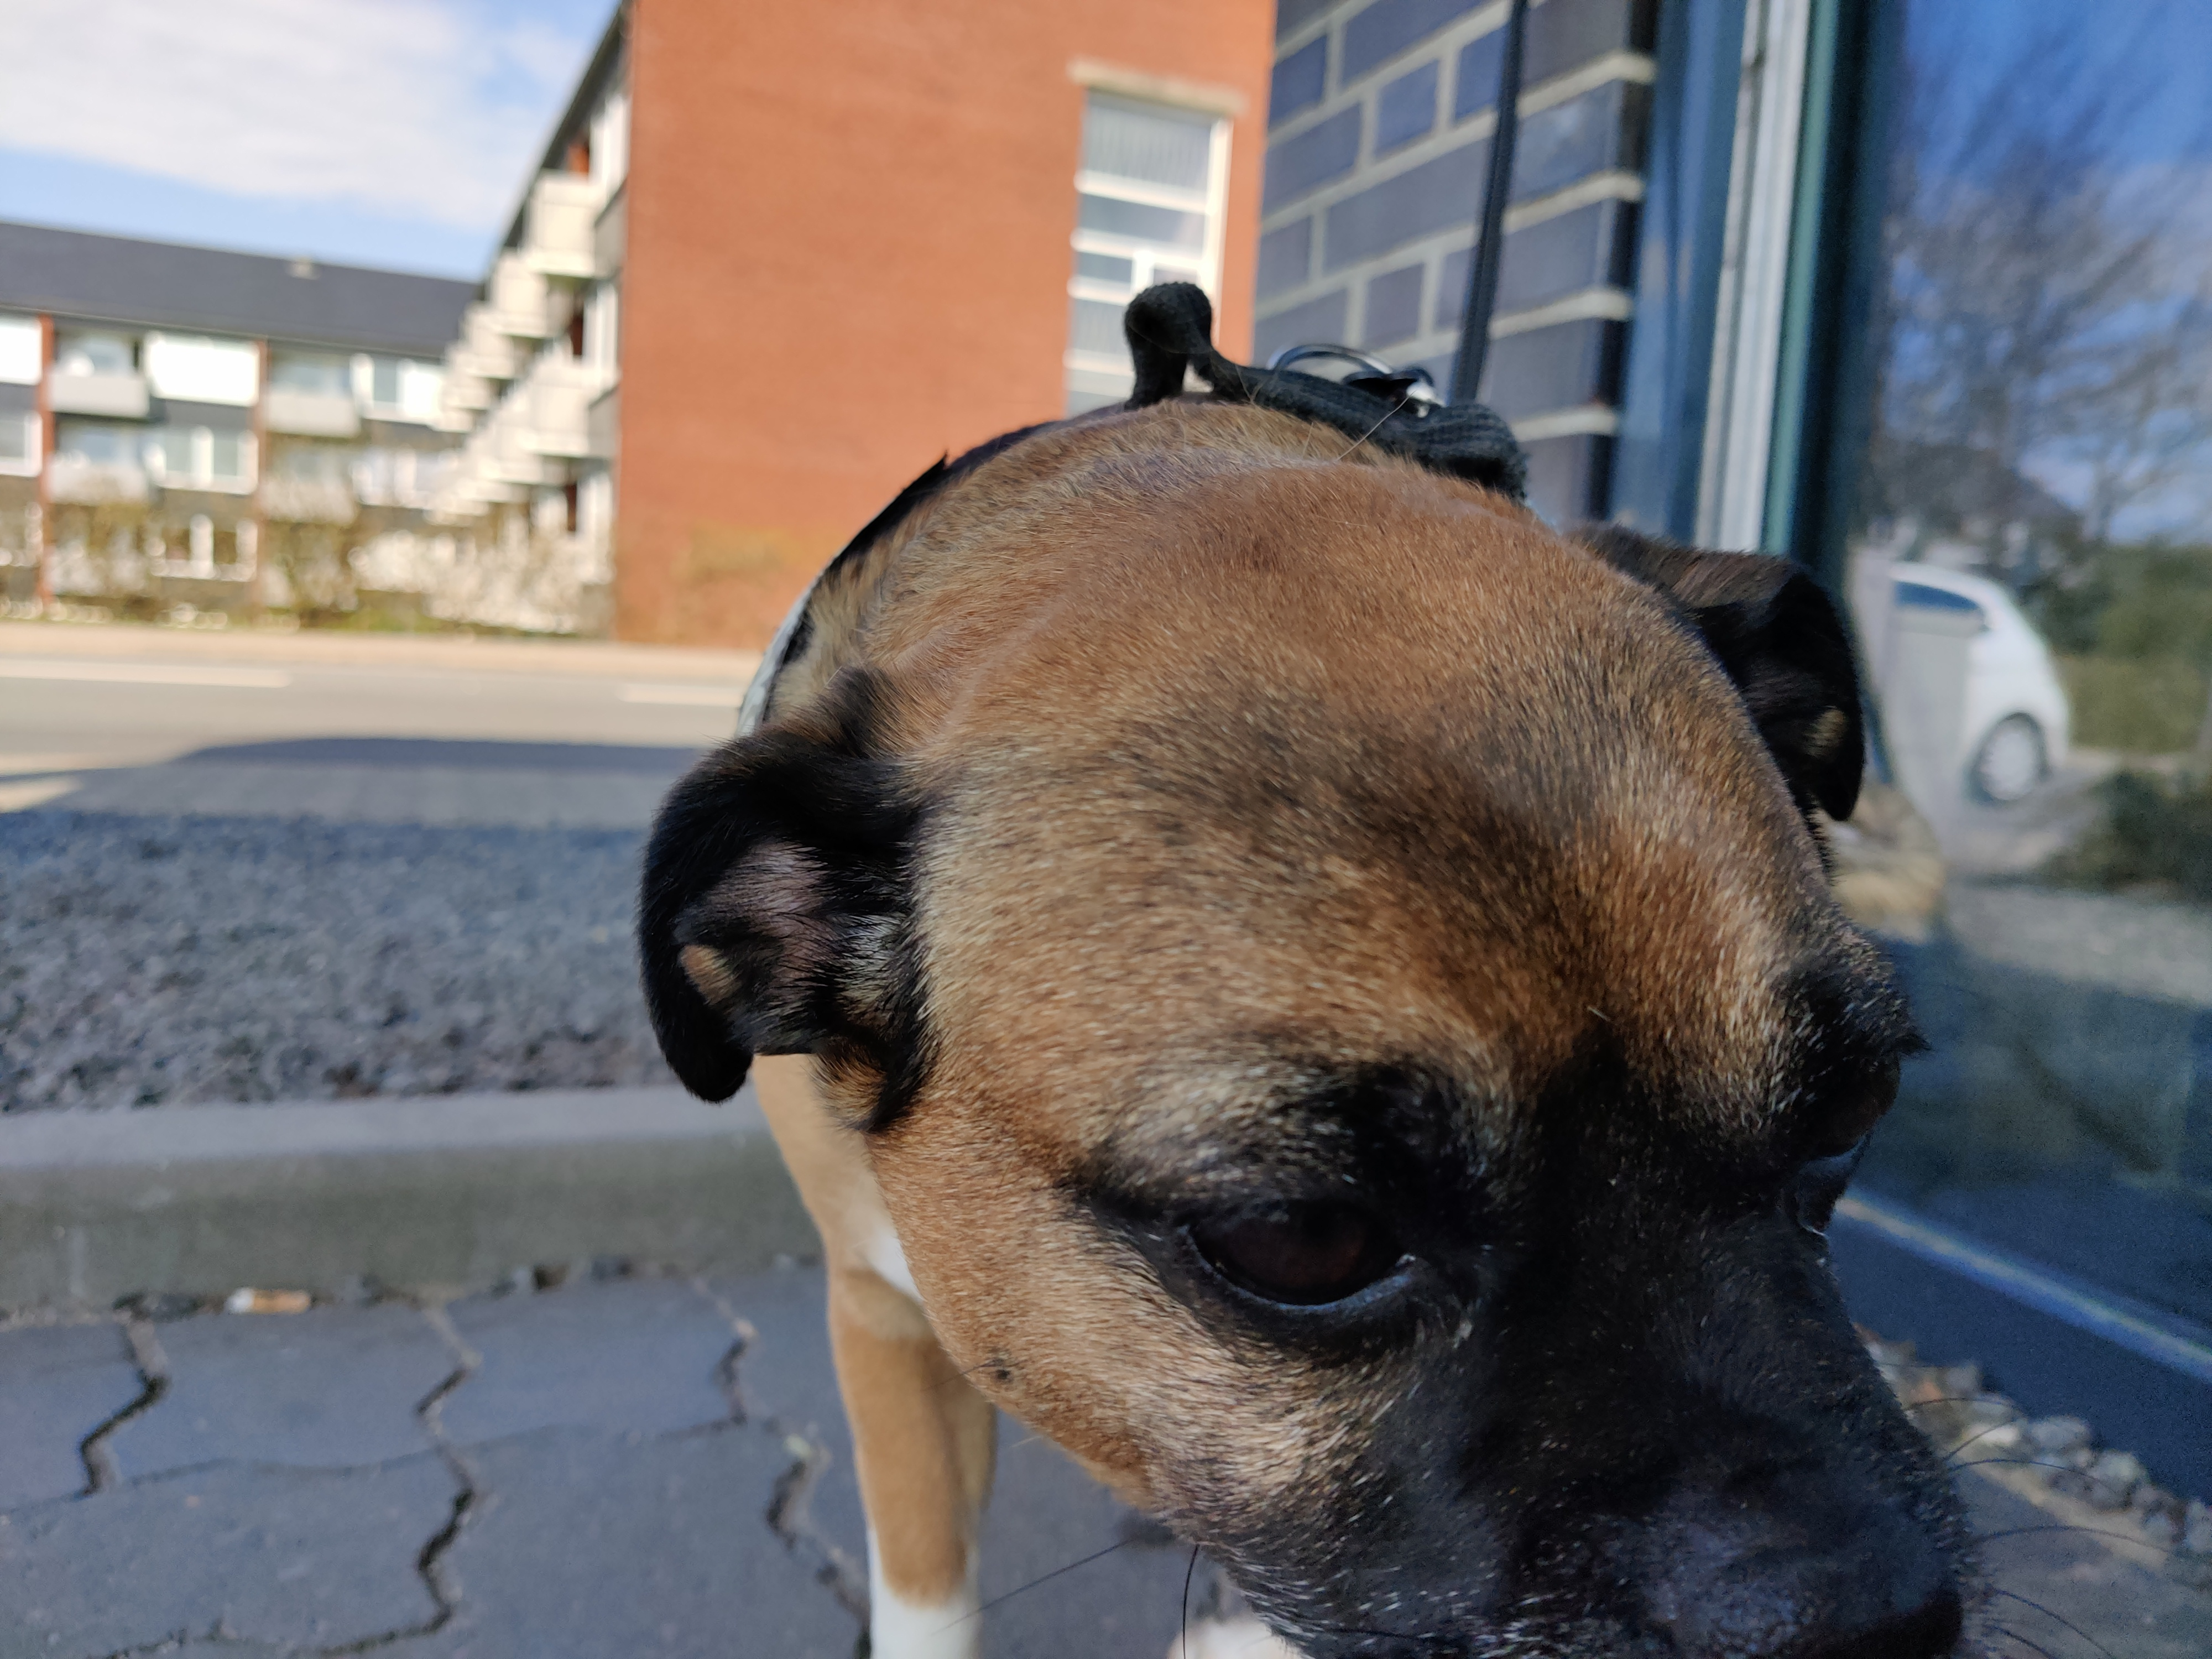Dog: (624, 265, 2017, 1659)
